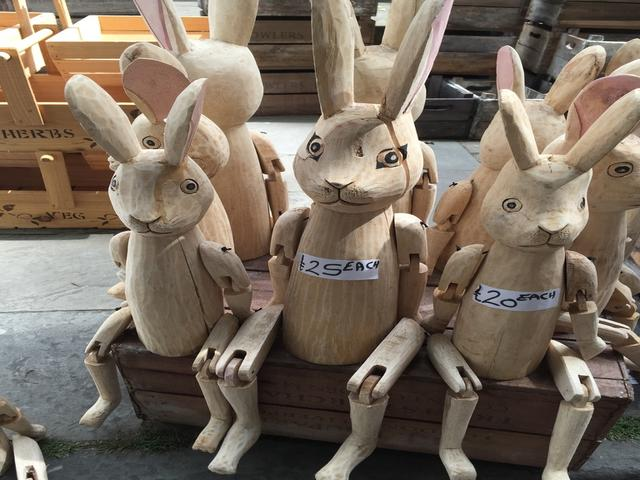rabbit: (219, 33, 468, 421), (50, 60, 252, 412)
